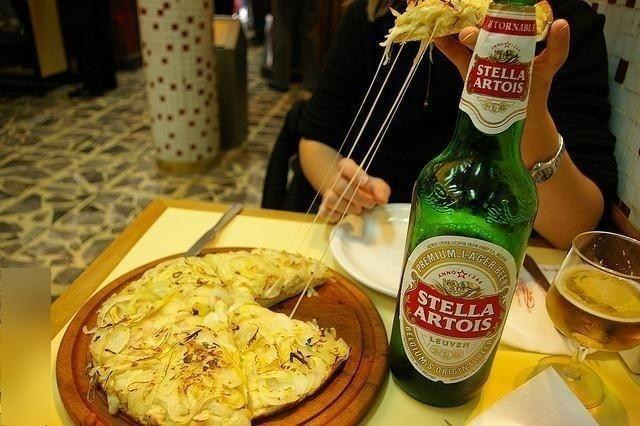bottle-glass: (386, 1, 542, 410)
glass-wine: (533, 230, 639, 410)
